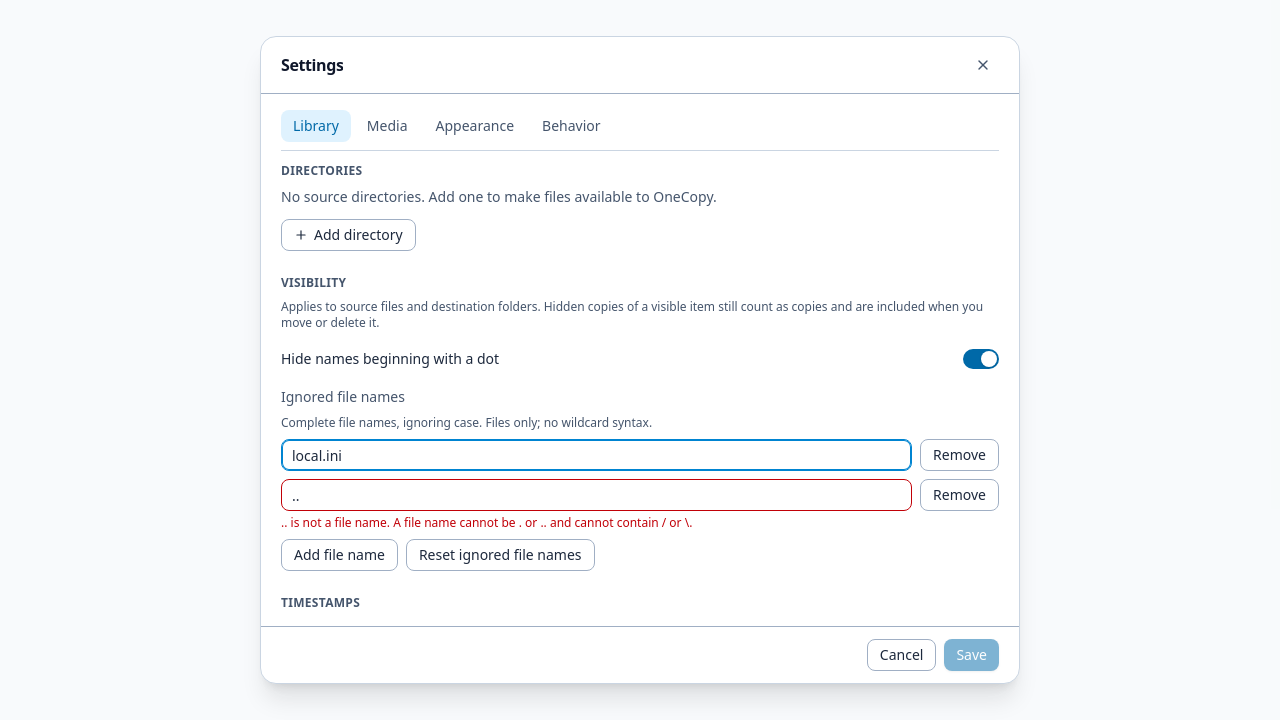
it: Settings categories › resets the ignored file names to the built-in list in the draft
Click the button "Reset ignored file names": (500, 555) [406,539,595,571]
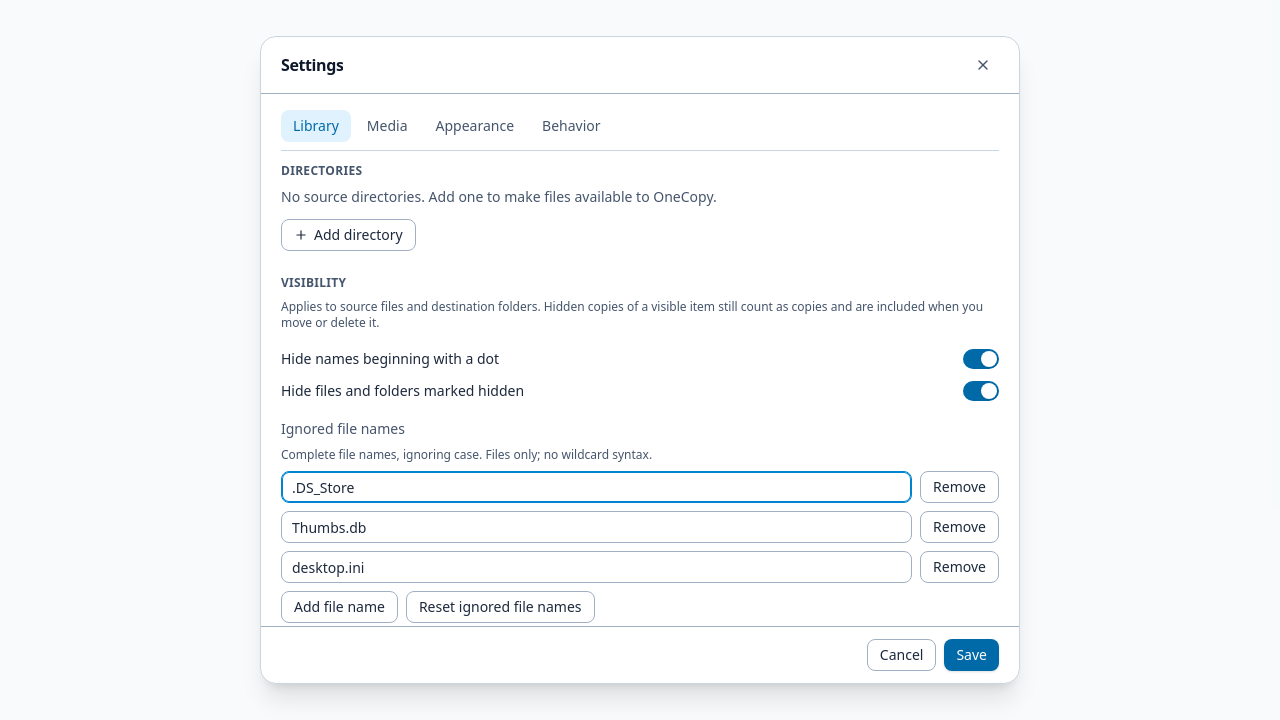
Now the text "is not a file name" is gone
